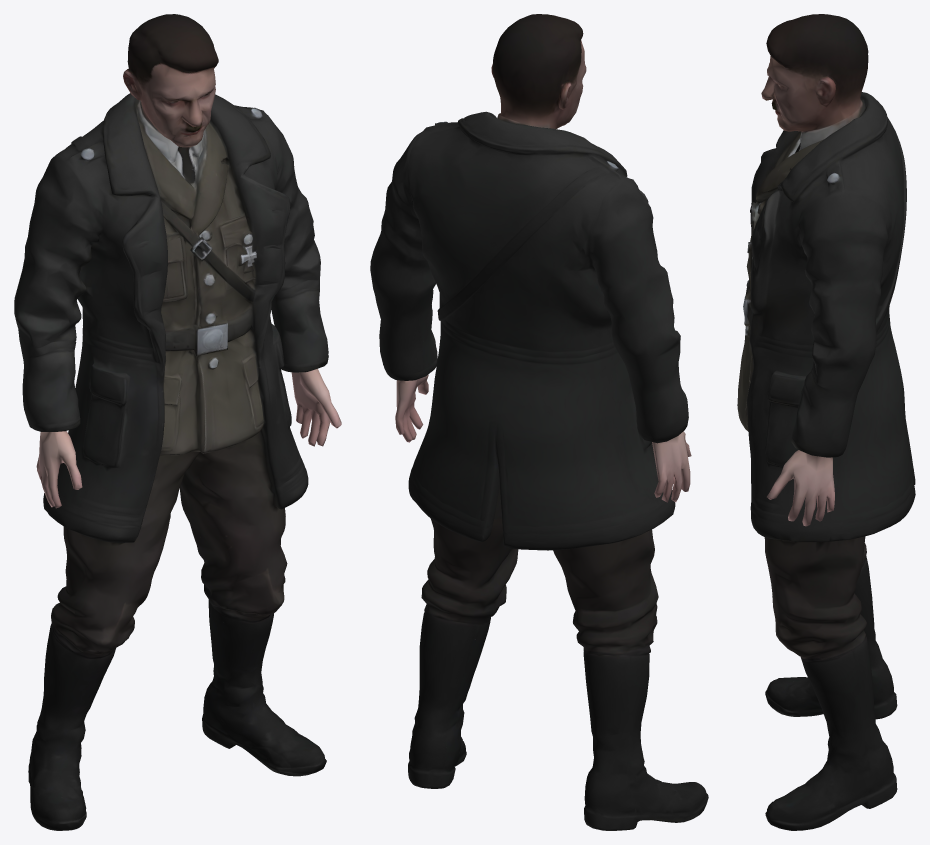
Rendered from hitler.glb.
3 renders of one model, left to right at view 1: azimuth 30°, elevation 25°; view 2: azimuth 150°, elevation 25°; view 3: azimuth 270°, elevation 25°, orthographic. The views are drawn at different scales.
Parts seen in each view (by area): view 1: tripo_node_92c69c2a-c4fb-49f8-a281-8e5b8db8398c; view 2: tripo_node_92c69c2a-c4fb-49f8-a281-8e5b8db8398c; view 3: tripo_node_92c69c2a-c4fb-49f8-a281-8e5b8db8398c.
Part boxes in pixels (bbox=[...]): tripo_node_92c69c2a-c4fb-49f8-a281-8e5b8db8398c: bbox=[14, 14, 341, 830]; tripo_node_92c69c2a-c4fb-49f8-a281-8e5b8db8398c: bbox=[370, 14, 708, 830]; tripo_node_92c69c2a-c4fb-49f8-a281-8e5b8db8398c: bbox=[737, 14, 915, 830].
Bounding box in the file's own units: 0.4016 × 0.9796 × 0.2104.
1 material, 1 textured.
